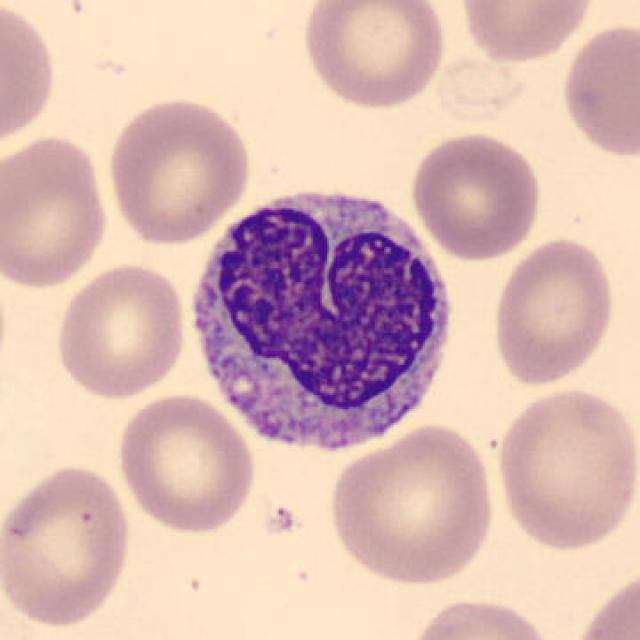Monocyte: (176, 173, 468, 469)
RBC: (323, 421, 500, 589), (491, 384, 638, 556), (103, 93, 256, 247), (0, 460, 135, 631), (114, 391, 258, 536), (487, 232, 619, 390), (52, 261, 190, 400), (407, 129, 544, 261), (0, 132, 112, 291), (298, 0, 449, 111), (556, 20, 638, 160), (457, 0, 599, 65), (0, 0, 60, 153), (404, 594, 560, 640), (563, 560, 638, 640)
